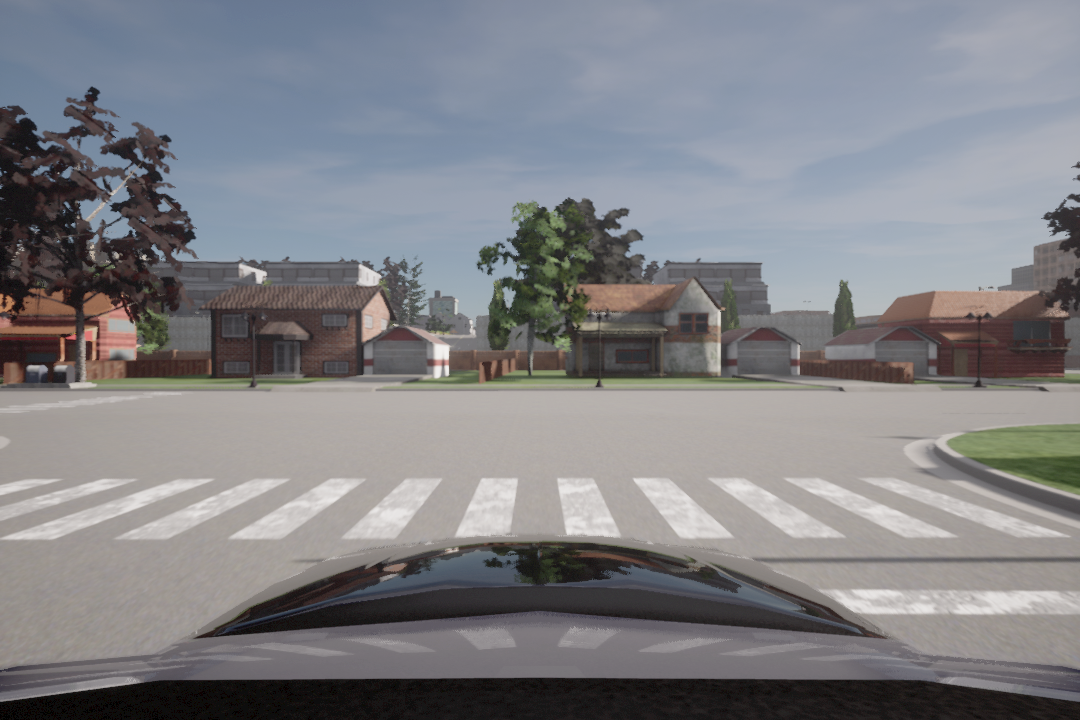walkside: (5, 467, 1058, 546)
